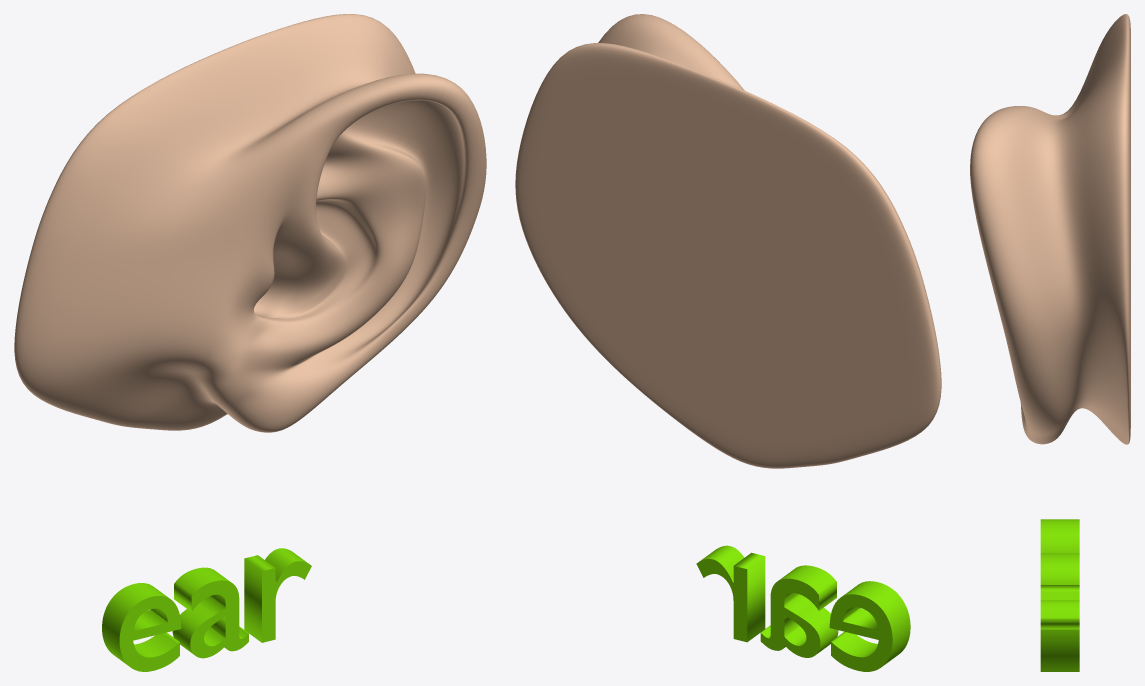
The model's file is ear no.3.gltf.
The picture shows the model from 3 angles, left to right: view 1: azimuth 30°, elevation 25°; view 2: azimuth 150°, elevation 25°; view 3: azimuth 270°, elevation 25°; orthographic projection. The views are drawn at different scales.
Visible parts, largest first — view 1: Plane, Text; view 2: Plane, Text; view 3: Plane, Text.
Part boxes in pixels (bbox=[...]): Plane: bbox=[14, 14, 486, 432]; Text: bbox=[102, 548, 311, 671]; Plane: bbox=[515, 14, 941, 468]; Text: bbox=[696, 545, 910, 671]; Plane: bbox=[970, 14, 1130, 444]; Text: bbox=[1040, 519, 1079, 671].
Size of the model in its own units: 2.75 by 3.6 by 0.8227.
